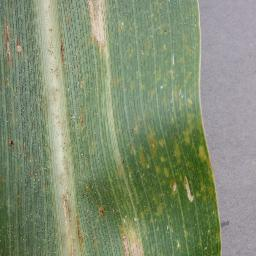Corn_Blight: (96, 205, 149, 254), (138, 118, 168, 187), (80, 1, 111, 55), (168, 161, 199, 213), (61, 188, 86, 252), (176, 113, 208, 160), (48, 18, 68, 81), (14, 164, 55, 192), (62, 100, 89, 139), (6, 17, 21, 78), (8, 130, 30, 161), (123, 120, 137, 163)
